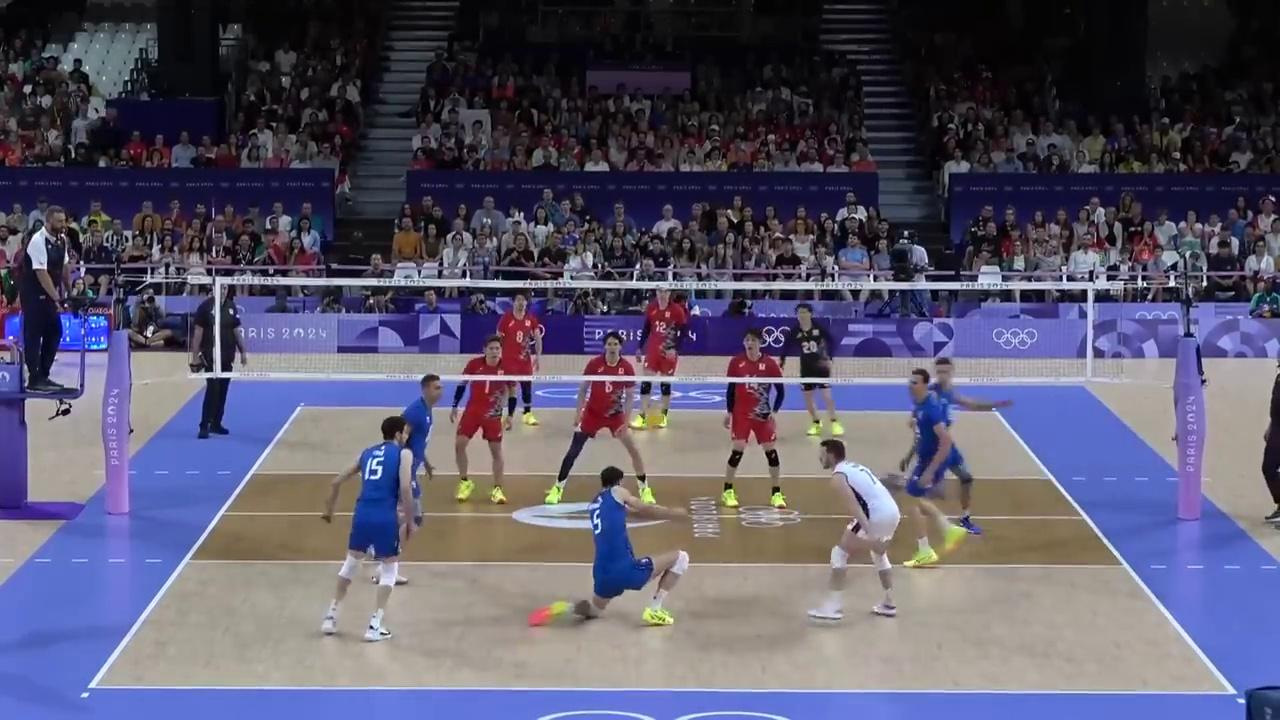ball: (642, 402, 663, 428)
